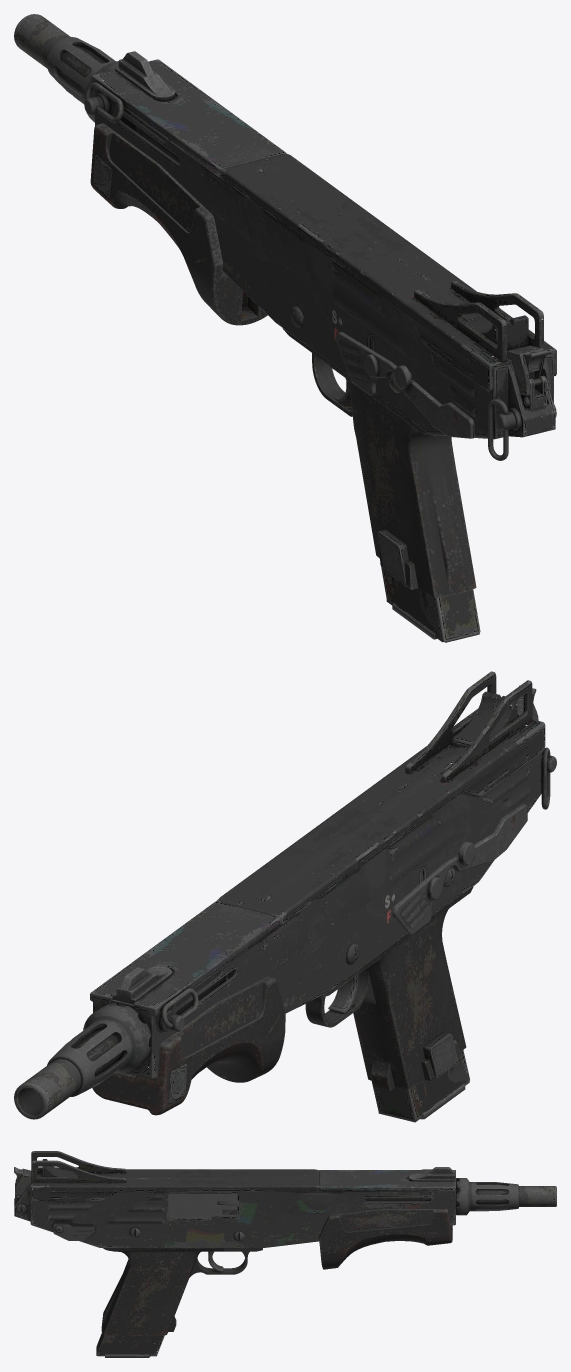
Rendered from mag7_r.glb.
The picture shows the model from 3 angles, top to bottom: view 1: azimuth 30°, elevation 25°; view 2: azimuth 150°, elevation 25°; view 3: azimuth 270°, elevation 25°; orthographic projection. The views are drawn at different scales.
Parts seen in each view (by area): view 1: v_mag7_R; view 2: v_mag7_R; view 3: v_mag7_R.
Part boxes in pixels (<box>): v_mag7_R: <box>14,14,556,642</box>; v_mag7_R: <box>14,671,556,1122</box>; v_mag7_R: <box>14,1151,556,1357</box>.
Size of the model in its own units: 0.067 by 0.2588 by 0.6482.
Materials: 1 (1 with a texture image).
